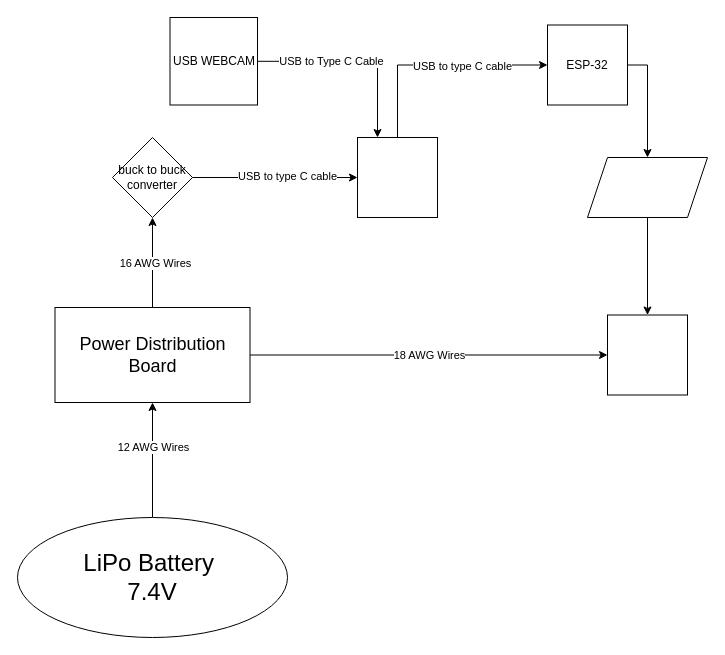
The diagram is 725 pixels wide and 655 high, and some of its shapes have lost their labels. Here are the shapes that lost their labels. From the top down, the box of each, then its label:
(356, 136, 438, 218): Raspberry Pi 5
(586, 156, 708, 218): Servo Motor Driver
(606, 314, 688, 395): 12 Servo Motors
